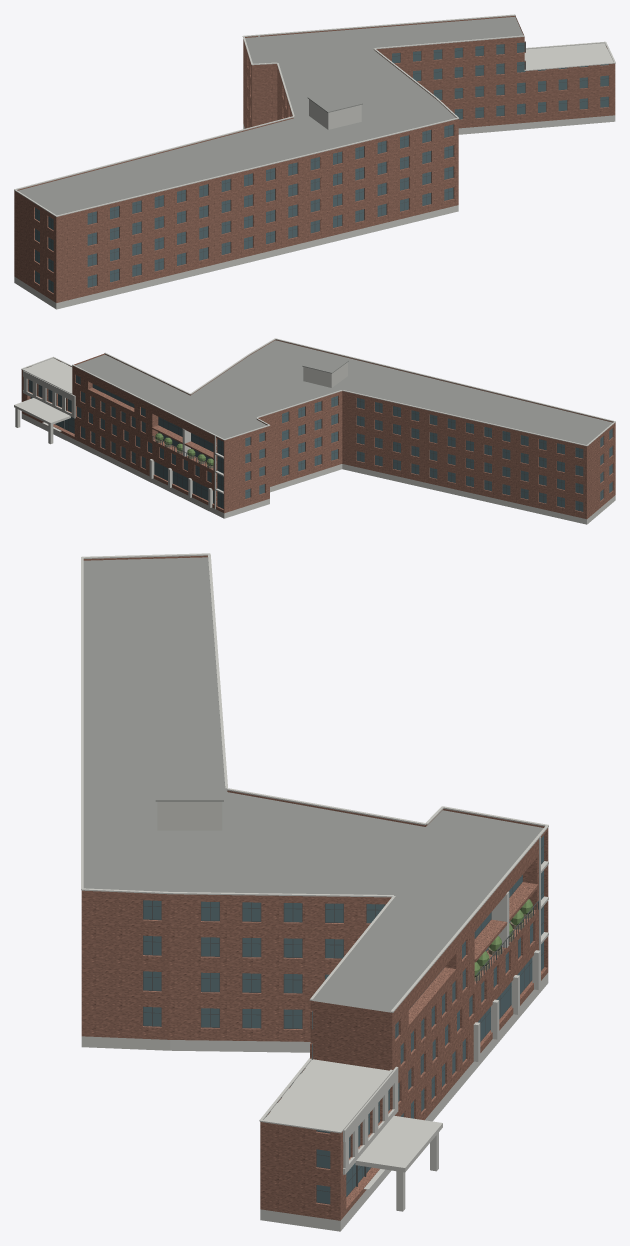
3 views of the same model, one above another, from view 1: azimuth 30°, elevation 25°; view 2: azimuth 150°, elevation 25°; view 3: azimuth 270°, elevation 25° (orthographic). The views are drawn at different scales.
Parts seen in each view (by area): view 1: hq__rear_4_wall, hq__roof_deck, hq__side_1_wall, hq__rear_4_glass, hq__foundation_skirt, hq__roof_coping, hq__rear_5_wall, hq__side_1_glass, hq__rear_4_frames, hq__rear_4_reveal, hq__entry_roof_deck, hq__rear_8_wall (+9 smaller); view 2: hq__roof_deck, hq__rear_6_wall, hq__photo_front_wall, hq__rear_7_wall, hq__rear_6_glass, hq__photo_front_glass, hq__foundation_skirt, hq__side_9_wall, hq__roof_coping, hq__rear_5_wall, hq__photo_front_reveal, hq__rear_6_frames (+17 smaller); view 3: hq__roof_deck, hq__rear_2_wall, hq__photo_front_wall, hq__rear_3_wall, hq__roof_coping, hq__foundation_skirt, hq__rear_2_glass, hq__entry_roof_deck, hq__roof_step_wall, hq__photo_front_reveal, hq__photo_front_glass, hq__side_11_wall (+10 smaller).
Part boxes in pixels (left/top/right/bottom): hq__rear_4_wall: left=56, top=119, right=458, bottom=302; hq__roof_deck: left=18, top=17, right=523, bottom=215; hq__side_1_wall: left=376, top=37, right=615, bottom=128; hq__rear_4_glass: left=87, top=124, right=453, bottom=287; hq__foundation_skirt: left=14, top=115, right=615, bottom=309; hq__roof_coping: left=14, top=14, right=615, bottom=216; hq__rear_5_wall: left=14, top=190, right=56, bottom=302; hq__side_1_glass: left=392, top=42, right=608, bottom=119; hq__rear_4_frames: left=88, top=124, right=453, bottom=287; hq__rear_4_reveal: left=87, top=124, right=454, bottom=288; hq__entry_roof_deck: left=524, top=43, right=613, bottom=69; hq__rear_8_wall: left=252, top=64, right=277, bottom=126; hq__roof_deck: left=75, top=340, right=612, bottom=444; hq__rear_6_wall: left=342, top=391, right=586, bottom=519; hq__photo_front_wall: left=21, top=365, right=224, bottom=512; hq__rear_7_wall: left=258, top=391, right=342, bottom=486; hq__rear_6_glass: left=357, top=398, right=583, bottom=511; hq__photo_front_glass: left=29, top=375, right=223, bottom=508; hq__foundation_skirt: left=21, top=413, right=615, bottom=524; hq__side_9_wall: left=224, top=426, right=269, bottom=513; hq__roof_coping: left=21, top=338, right=615, bottom=446; hq__rear_5_wall: left=587, top=422, right=615, bottom=518; hq__photo_front_reveal: left=27, top=374, right=223, bottom=509; hq__rear_6_frames: left=356, top=398, right=582, bottom=511; hq__roof_deck: left=83, top=557, right=543, bottom=1012; hq__rear_2_wall: left=170, top=894, right=391, bottom=1041; hq__photo_front_wall: left=340, top=828, right=548, bottom=1220; hq__rear_3_wall: left=81, top=890, right=170, bottom=1039; hq__roof_coping: left=81, top=553, right=548, bottom=1133; hq__foundation_skirt: left=81, top=973, right=548, bottom=1231; hq__rear_2_glass: left=201, top=901, right=384, bottom=1028; hq__entry_roof_deck: left=264, top=1059, right=388, bottom=1130; hq__roof_step_wall: left=310, top=1000, right=392, bottom=1070; hq__photo_front_reveal: left=346, top=831, right=547, bottom=1208; hq__photo_front_glass: left=346, top=835, right=543, bottom=1196; hq__side_11_wall: left=295, top=1127, right=340, bottom=1220.
Bounding box in the file's own units: 113 × 18.85 × 43.02.
7 materials, 1 textured.
